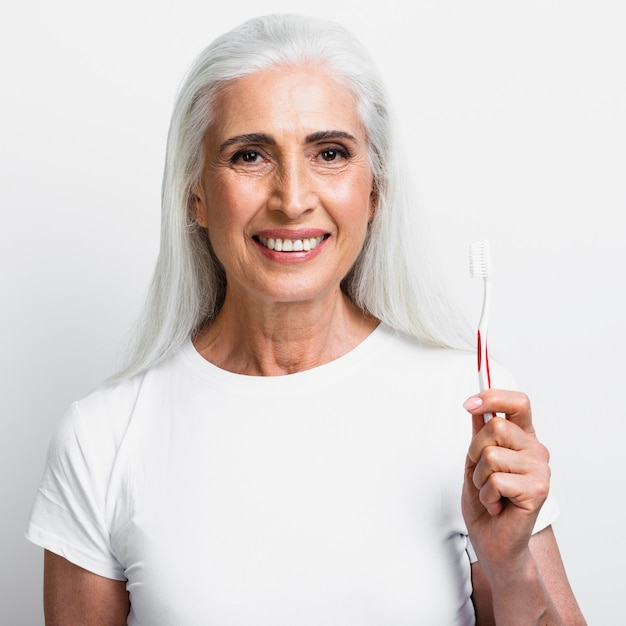young: (155, 11, 415, 333)
